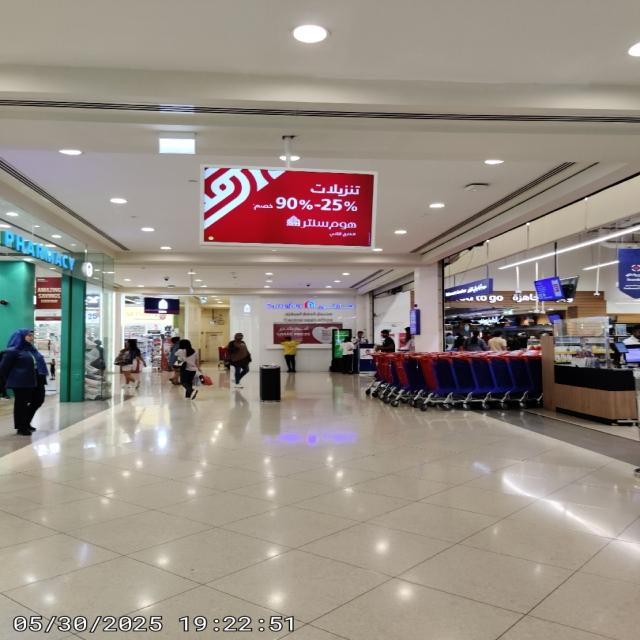digital-board: (198, 167, 384, 250)
